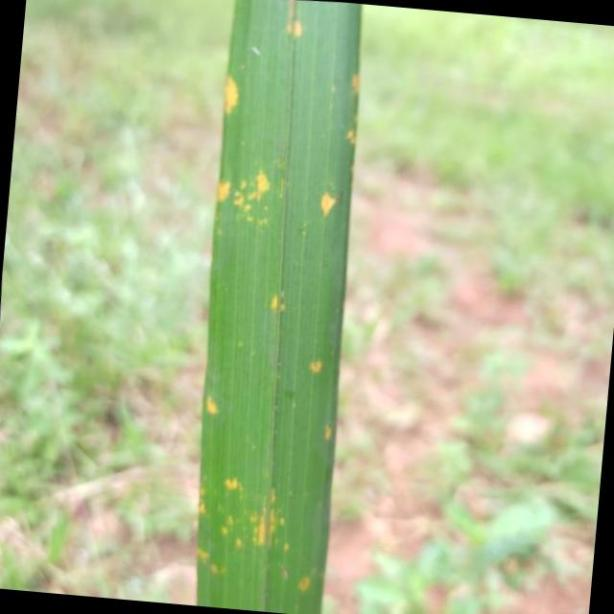Kalium: (198, 0, 361, 614)
